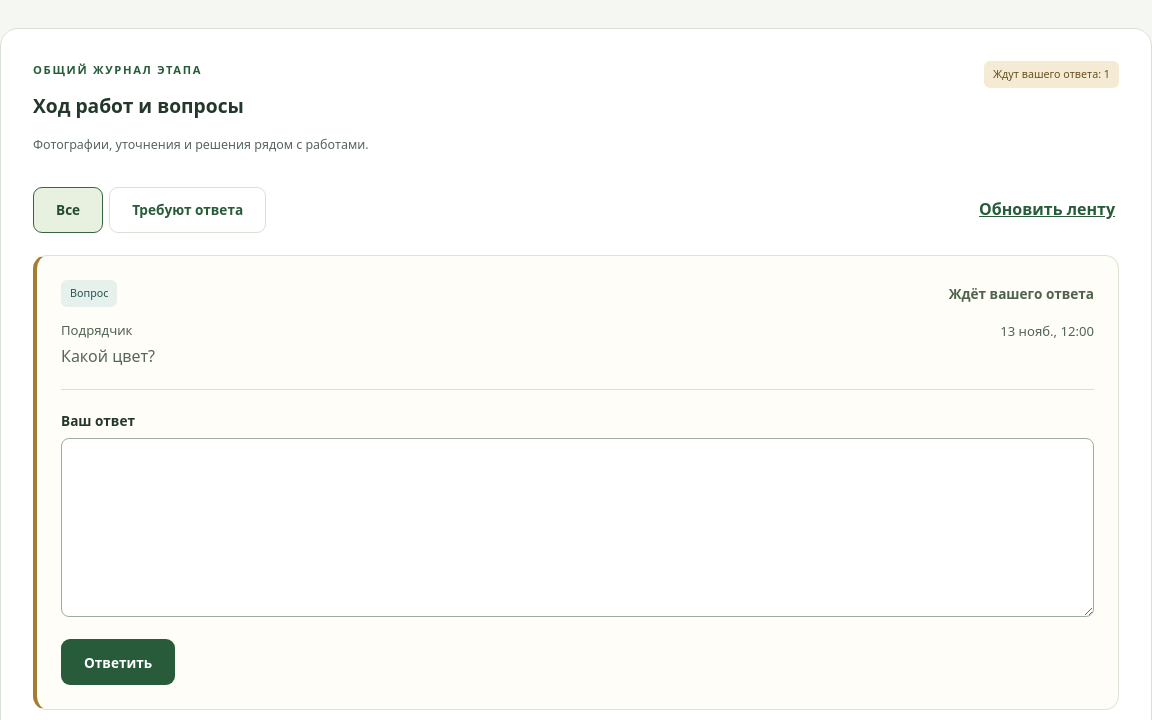
Test: Лента этапа › После ответа показывает результат рядом с вопросом и уменьшает число ожиданий
The image size is (1152, 720).
expect the text "Какой цвет?" is shown: met, box [61,345,155,367]
In the text box labelled "Ваш ответ": (578, 528) [61,438,1094,618], type "Белый"
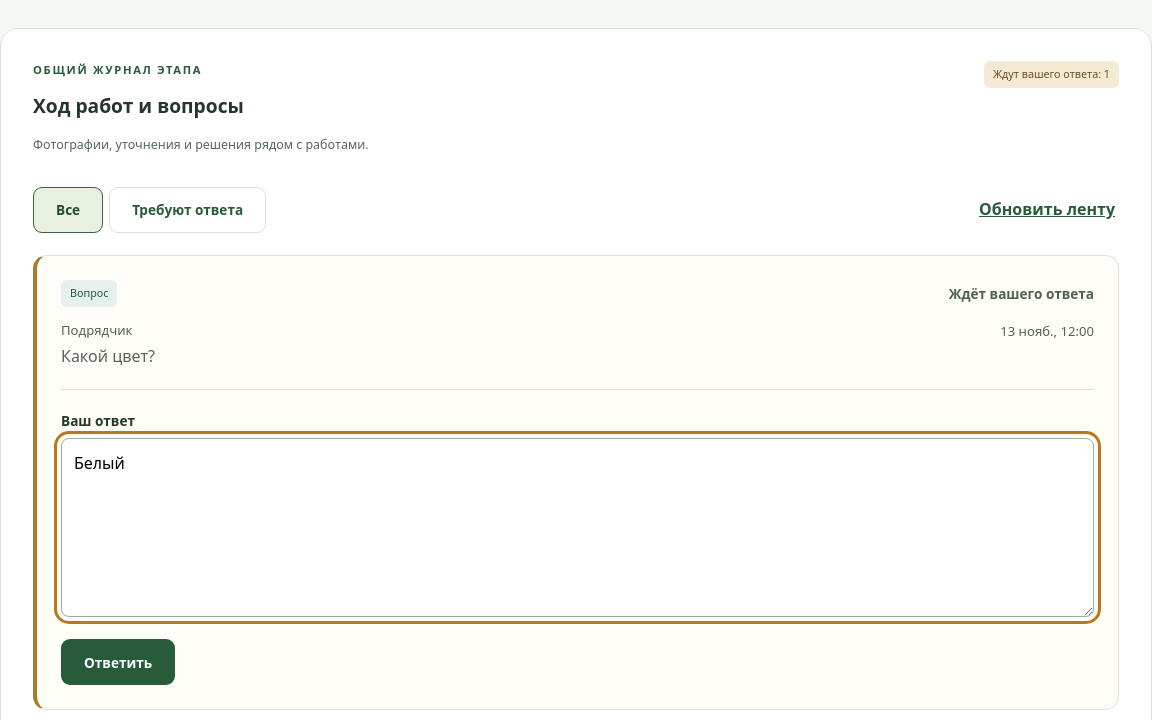
Click the button "Ответить": (118, 662) [61,640,175,686]
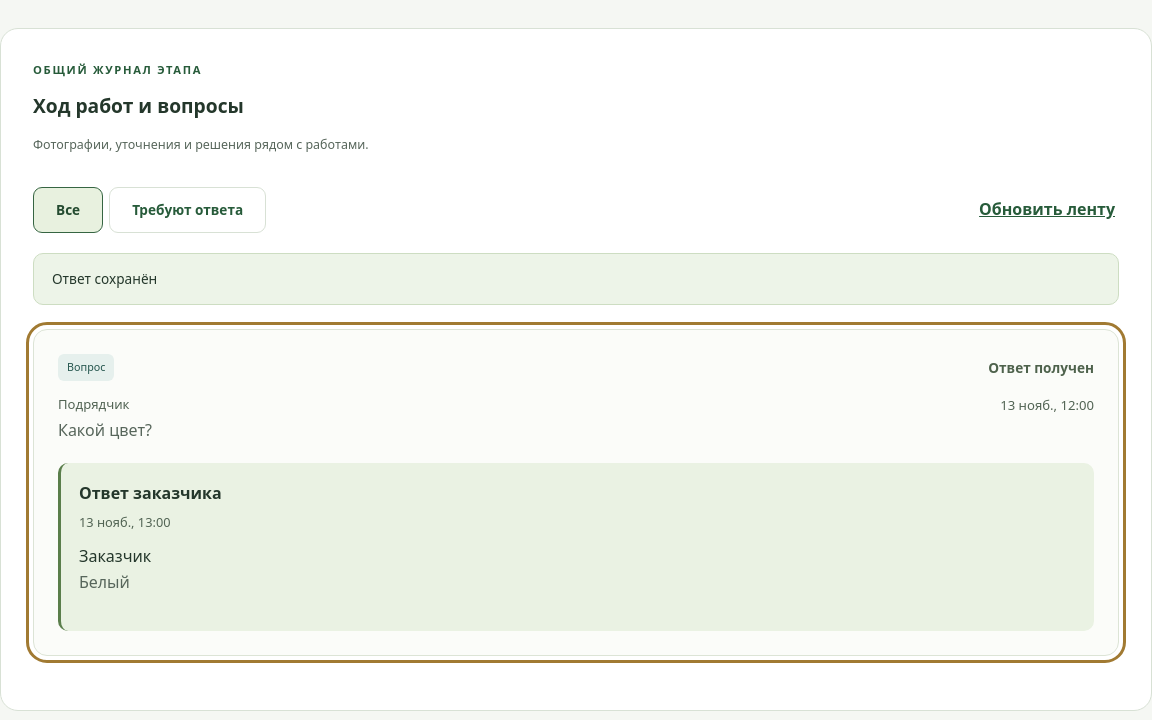
expect the text "Ответ заказчика" is shown: met, box [79,482,222,504]
expect the text "Белый" is shown: met, box [79,571,130,593]
expect the text "Ждёт вашего ответа" is gone: met
